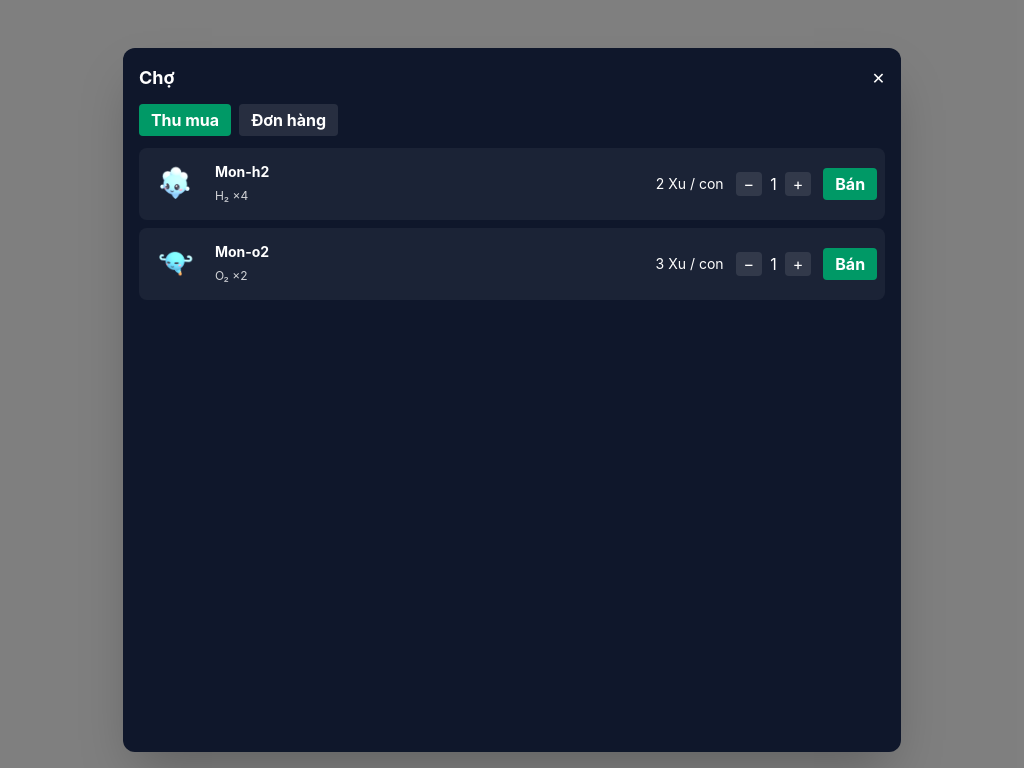
Test: a refused sale (500 INTERNAL) shows the market message, never the breeding copy
The width and height of the screenshot is (1024, 768).
Click the button with test id "sell-h2" at x=850, y=184, box [823,168,877,200]
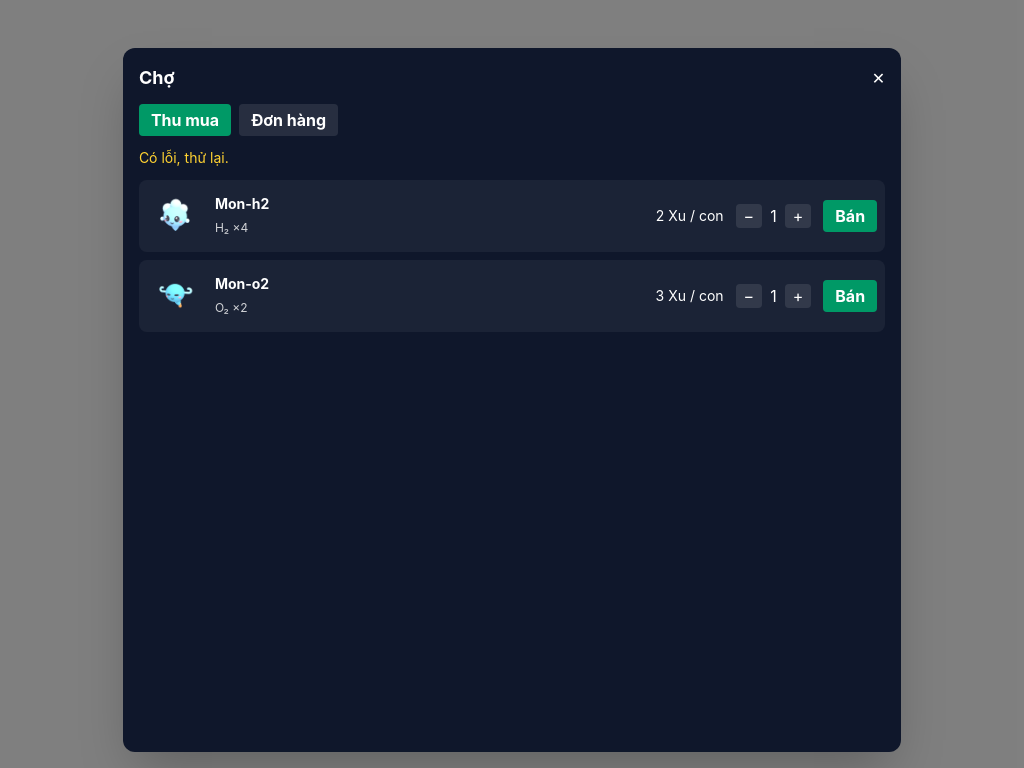
Expected: the button with test id "sell-h2" is enabled, [823,200,877,232]
Expected: the message reads "Có lỗi, thử lại.", [139,149,229,166]
